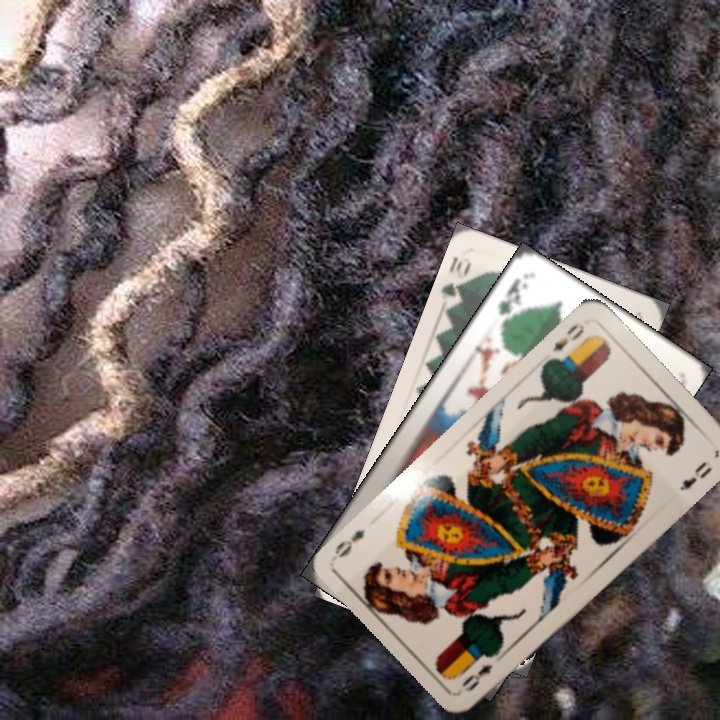EO: (545, 319, 587, 365), (457, 659, 496, 694)
G10: (437, 253, 474, 310)
GK: (493, 273, 531, 330)
